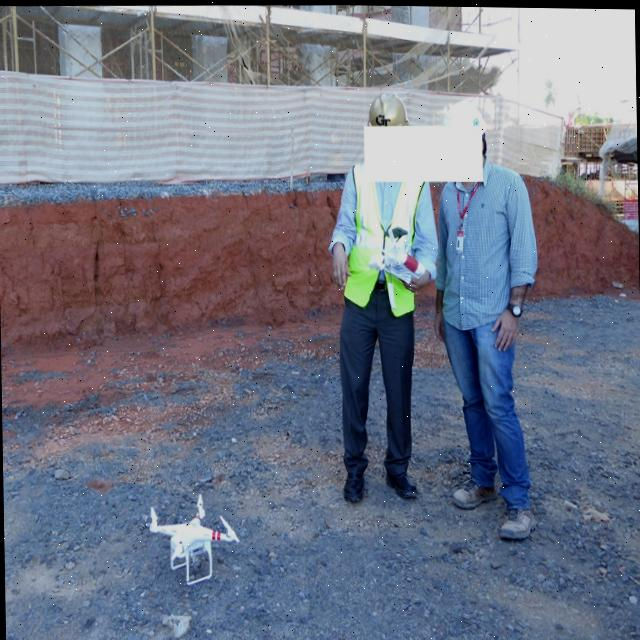drone: (144, 490, 240, 584)
